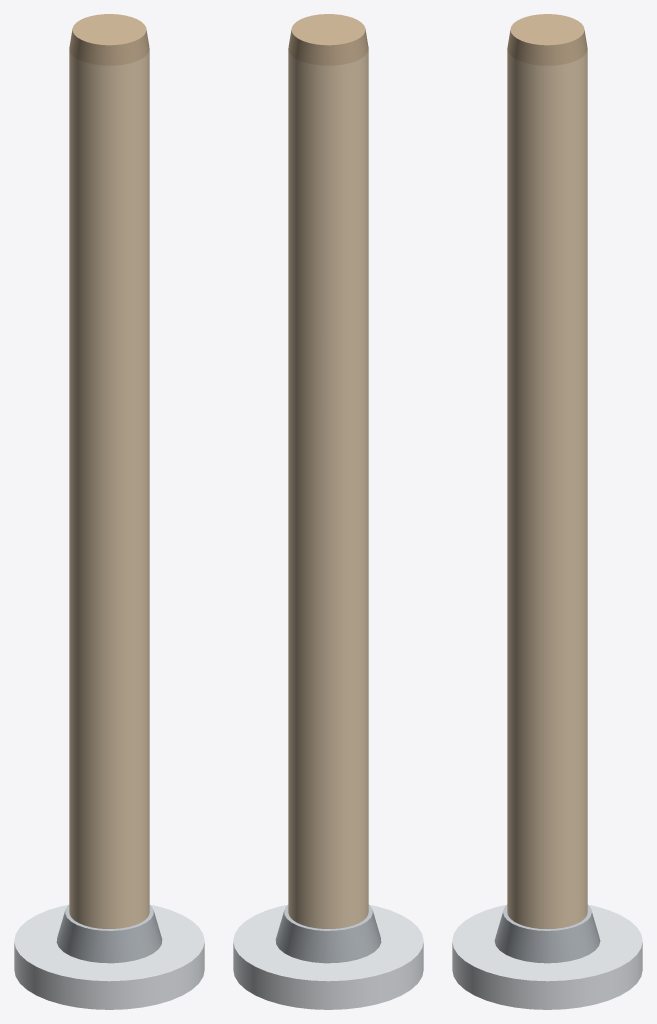
The model's file is magnet_stick.glb.
The picture shows the model from 3 angles, left to right: view 1: azimuth 30°, elevation 25°; view 2: azimuth 150°, elevation 25°; view 3: azimuth 270°, elevation 25°; orthographic projection.
Parts seen in each view (by area): view 1: MagnetStick; view 2: MagnetStick; view 3: MagnetStick.
Part boxes in pixels (x1=…): MagnetStick: x1=14, y1=14, x2=204, y2=1009; MagnetStick: x1=233, y1=14, x2=423, y2=1009; MagnetStick: x1=452, y1=14, x2=642, y2=1009.
Size of the model in its own units: 0.018 by 0.098 by 0.018.
